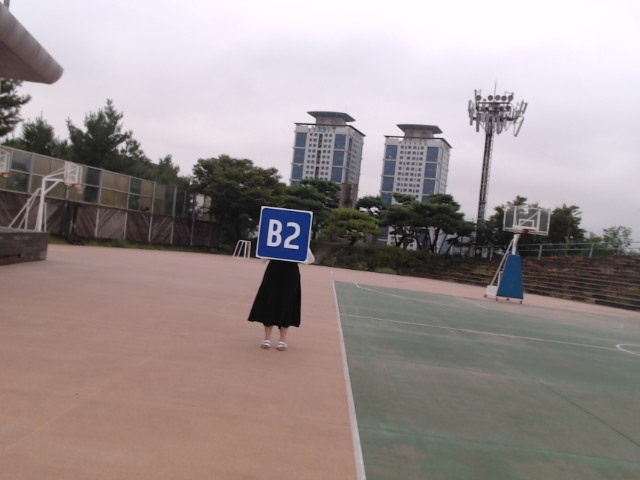delivery_b2: (255, 207, 313, 262)
